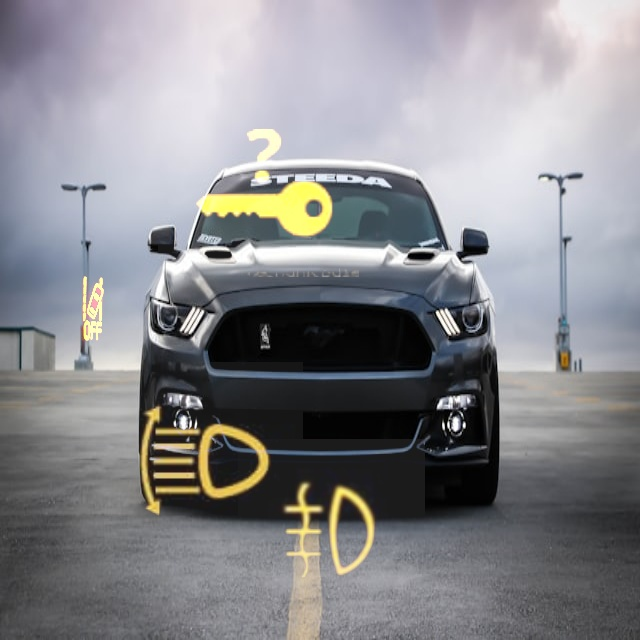symbol: (158, 78, 368, 288), (109, 362, 303, 556), (238, 439, 425, 626), (27, 248, 153, 374)
